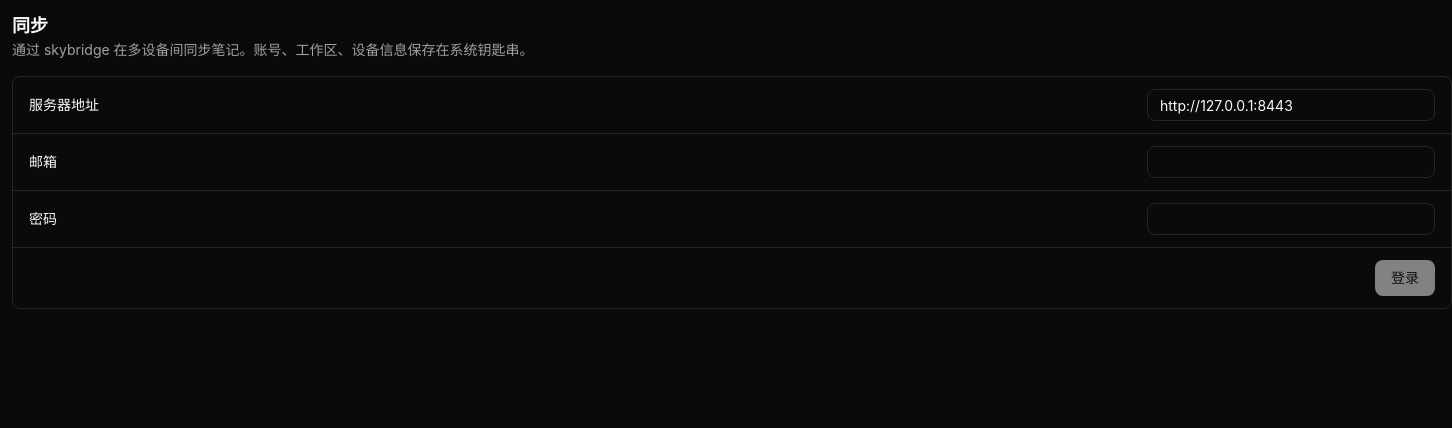
SyncSection — unauth → login → auth flow › submits camelCase input + refreshes status on success
Expected: the button "登录" is shown, x1=1375 y1=260 x2=1435 y2=296
In the field showing "http://127.0.0.1:8443" in the row of "服务器地址": (1291, 105) x1=1147 y1=89 x2=1435 y2=121, type "http://srv"
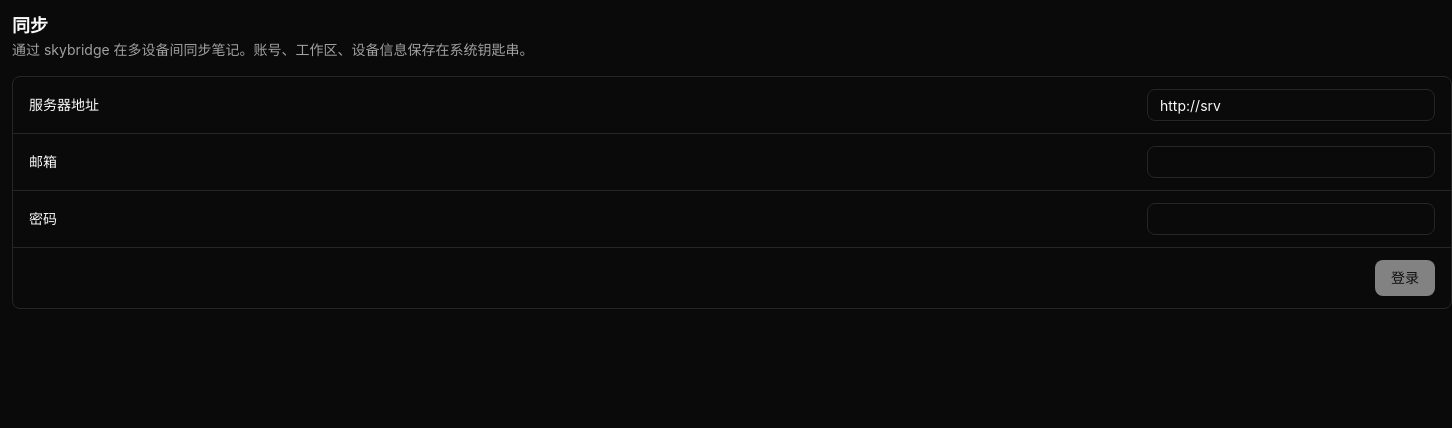
In the field in the row of "邮箱": (1291, 162) x1=1147 y1=146 x2=1435 y2=178, type "a@test"
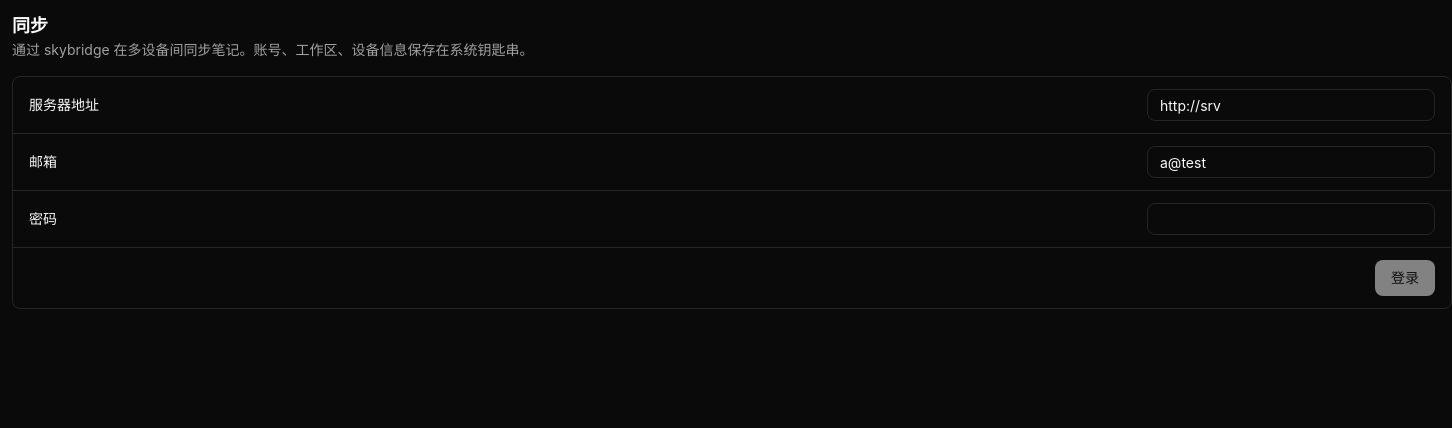
In the password field: (1291, 219) x1=1147 y1=203 x2=1435 y2=235, type "pw"
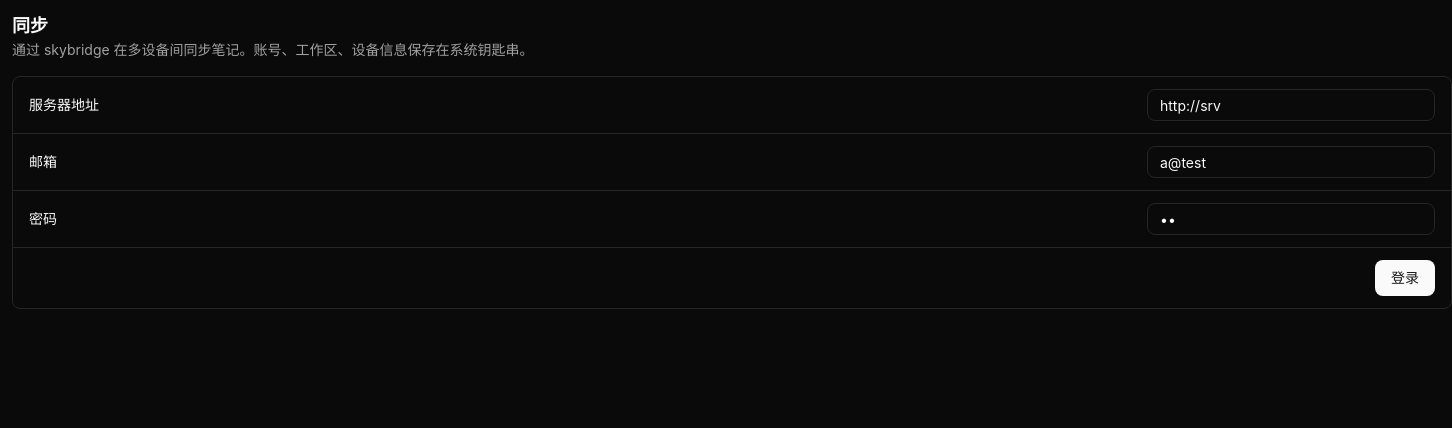
Click the button "登录": (1405, 278) x1=1375 y1=260 x2=1435 y2=296
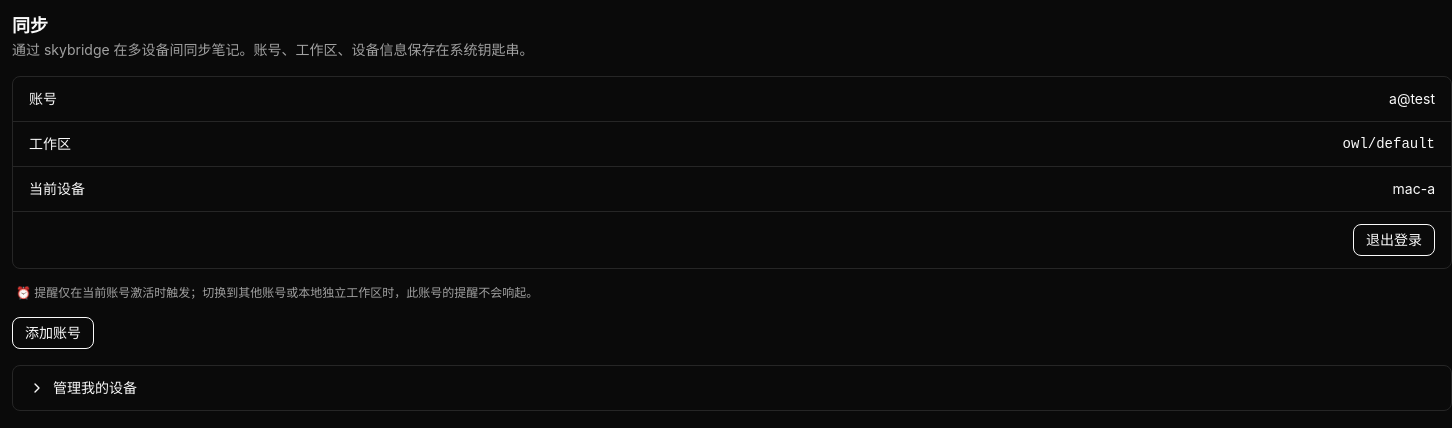
Expected: the text "a@test" is shown, x1=1389 y1=89 x2=1435 y2=109
Expected: the text "owl/default" is shown, x1=1343 y1=134 x2=1435 y2=154
Expected: the text "mac-a" is shown, x1=1393 y1=179 x2=1435 y2=199
